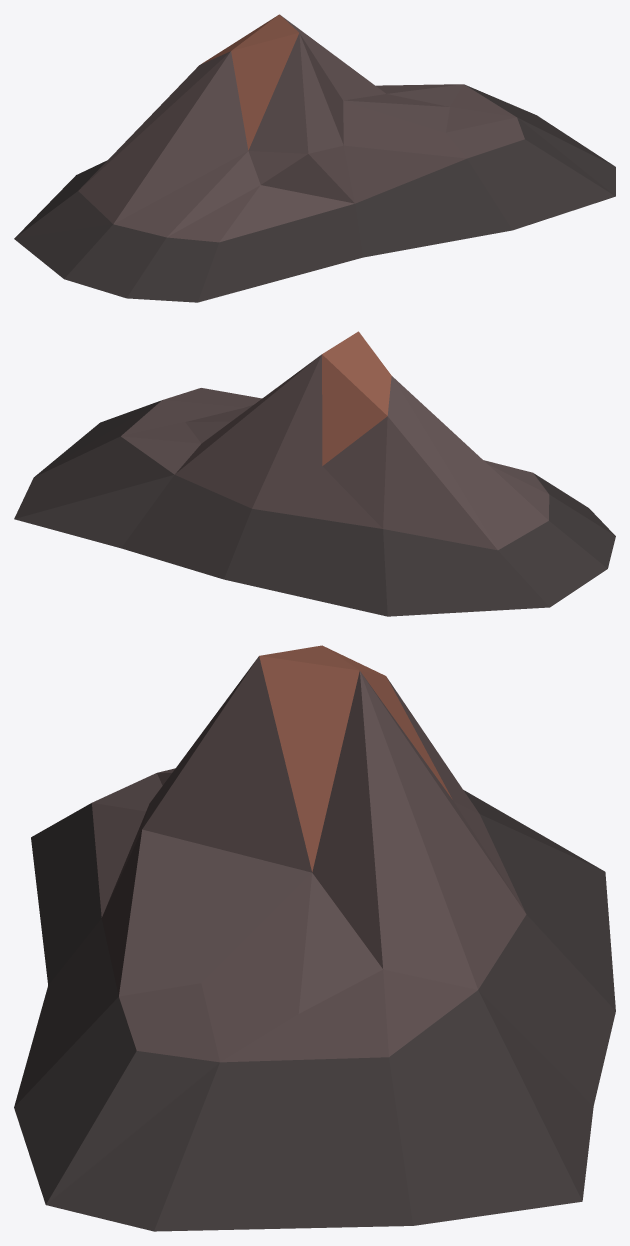
The model's file is TB_D_Env_MtC_C.FBX.
3 views of the same model, one above another, from view 1: azimuth 30°, elevation 25°; view 2: azimuth 150°, elevation 25°; view 3: azimuth 270°, elevation 25° (orthographic). The views are drawn at different scales.
Parts seen in each view (by area): view 1: TB_D_Env_MtC_C; view 2: TB_D_Env_MtC_C; view 3: TB_D_Env_MtC_C.
Boxes of the visible parts, bbox=[...] form: TB_D_Env_MtC_C: bbox=[14, 14, 615, 302]; TB_D_Env_MtC_C: bbox=[14, 331, 615, 616]; TB_D_Env_MtC_C: bbox=[14, 645, 615, 1231].
Size of the model in its own units: 23.91 by 7.89 by 13.21.
